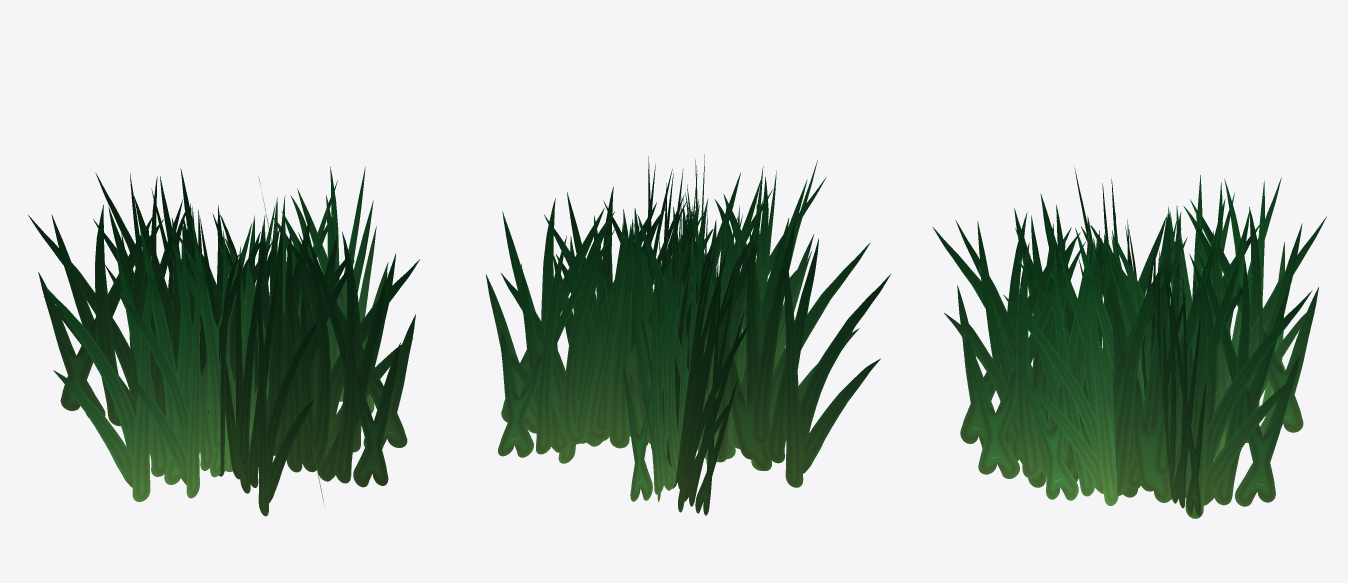
Rendered from grass mesh.FBX.
3 views of the same model, side by side, from view 1: azimuth 30°, elevation 25°; view 2: azimuth 150°, elevation 25°; view 3: azimuth 270°, elevation 25° (orthographic). The views are drawn at different scales.
Parts seen in each view (by area): view 1: Plane003; view 2: Plane003; view 3: Plane003.
Part boxes in pixels (bbox=[...]): Plane003: bbox=[28, 166, 420, 516]; Plane003: bbox=[485, 154, 890, 515]; Plane003: bbox=[932, 166, 1326, 518].
Bounding box in the file's own units: 0.215 × 0.2 × 0.2001.
Materials: 1 (1 with a texture image).
